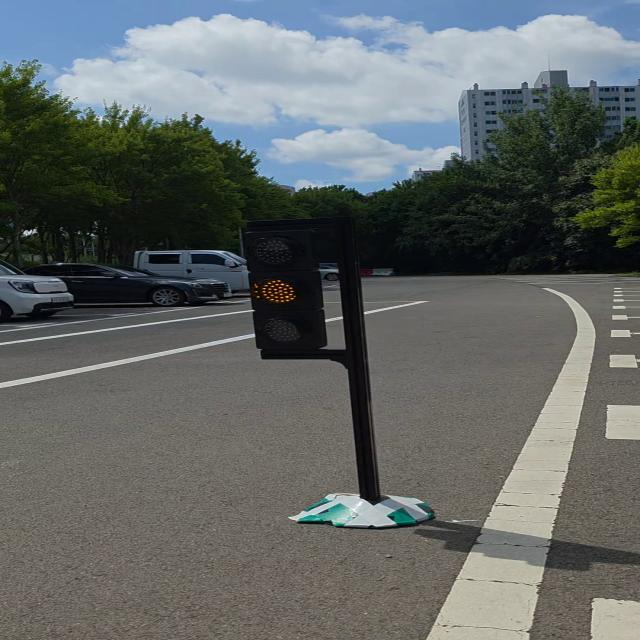yellow: (233, 224, 334, 360)
